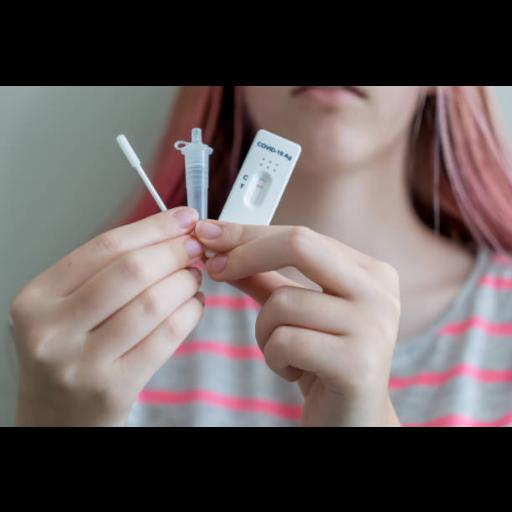Neg: (223, 128, 304, 226)
